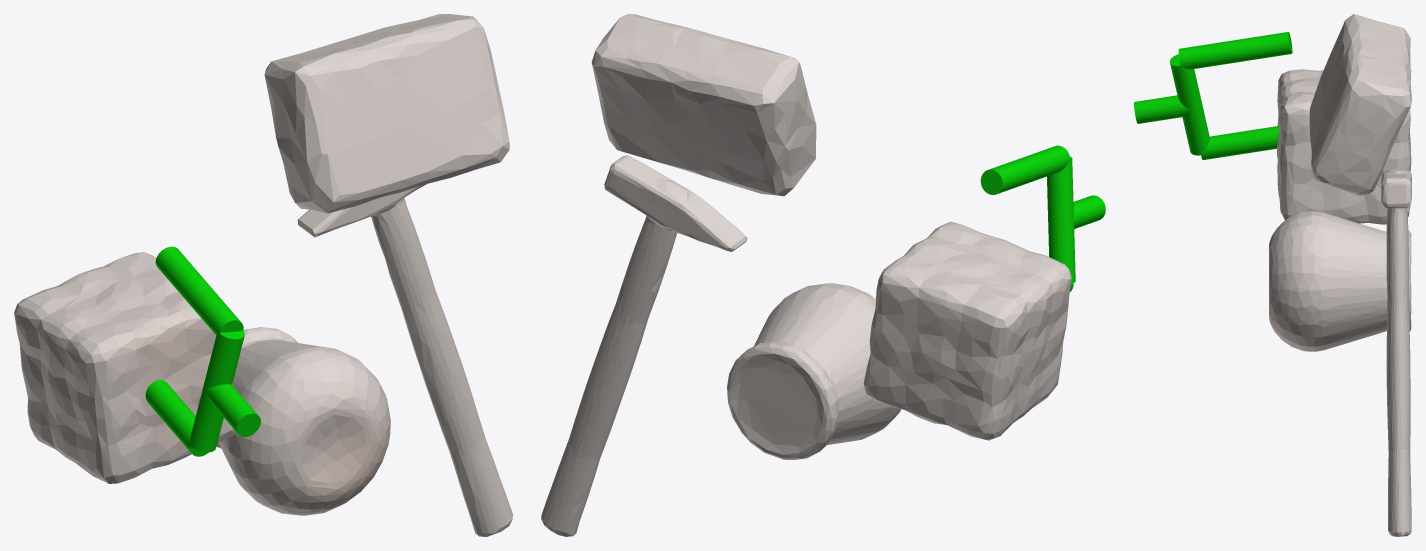
Rendered from round_000_trial_001.obj.
3 renders of one model, left to right at view 1: azimuth 30°, elevation 25°; view 2: azimuth 150°, elevation 25°; view 3: azimuth 270°, elevation 25°, orthographic. The views are drawn at different scales.
Parts seen in each view (by area): view 1: geometry_0, geometry_1; view 2: geometry_0, geometry_1; view 3: geometry_0, geometry_1.
Part boxes in pixels (x1,y1,x2,y2): geometry_0: (14, 14, 512, 536); geometry_1: (145, 246, 260, 456); geometry_0: (541, 14, 1071, 536); geometry_1: (980, 145, 1105, 291); geometry_0: (1269, 14, 1411, 536); geometry_1: (1134, 32, 1292, 159).
Bounding box in the file's own units: 0.2086 × 0.2184 × 0.1245.
